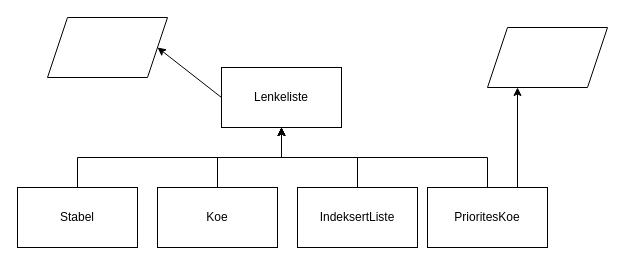
Image size: 625x265. Some labels were removed from this diagram. Here are the shapes that lost their labels. From the top down, the box of each, then its label:
(46, 16, 168, 78): Liste
(486, 26, 608, 88): Compareble
